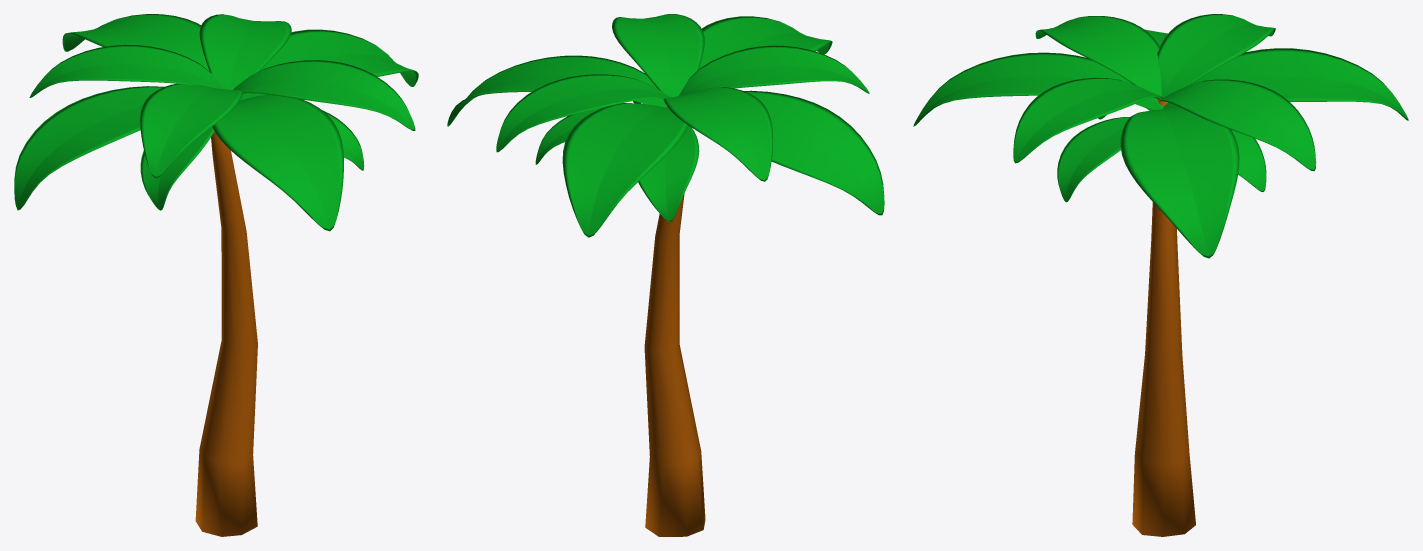
Rendered from PalmTree3.fbx.
The picture shows the model from 3 angles, left to right: view 1: azimuth 30°, elevation 25°; view 2: azimuth 150°, elevation 25°; view 3: azimuth 270°, elevation 25°; orthographic projection.
Visible parts, largest first — view 1: PalmTree3; view 2: PalmTree3; view 3: PalmTree3.
Boxes of the visible parts, left/top/right/bottom form: PalmTree3: left=14, top=14, right=418, bottom=536; PalmTree3: left=447, top=14, right=884, bottom=536; PalmTree3: left=913, top=14, right=1408, bottom=536.
Bounding box in the file's own units: 6.85 × 7.1 × 7.23.
